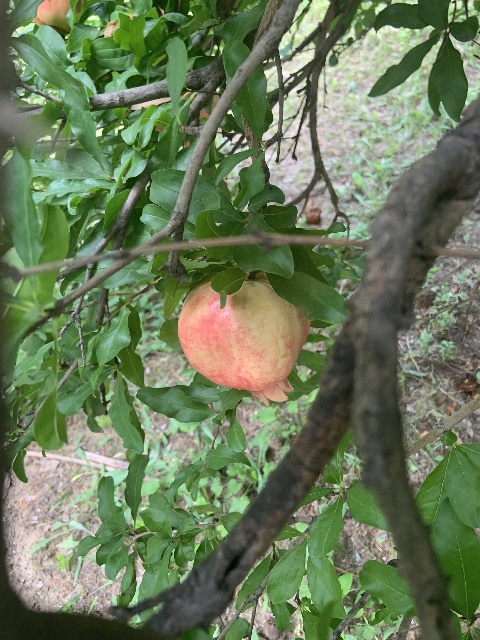ripe: (177, 271, 310, 406)
